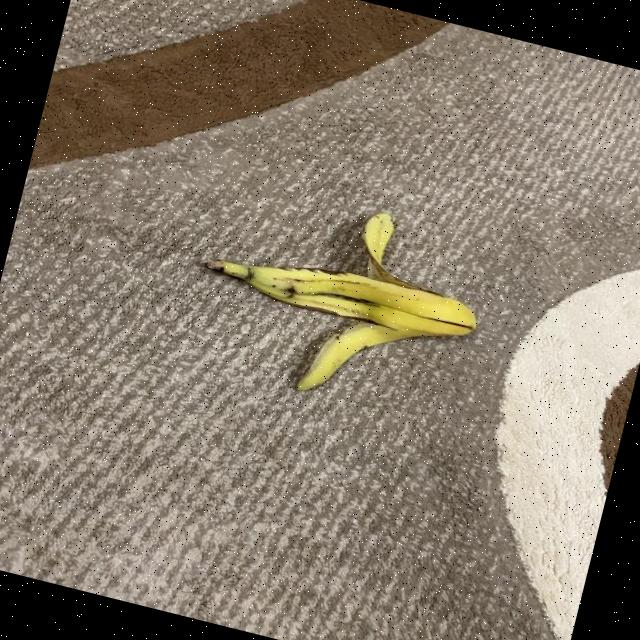banana-peel: (179, 171, 498, 429)
